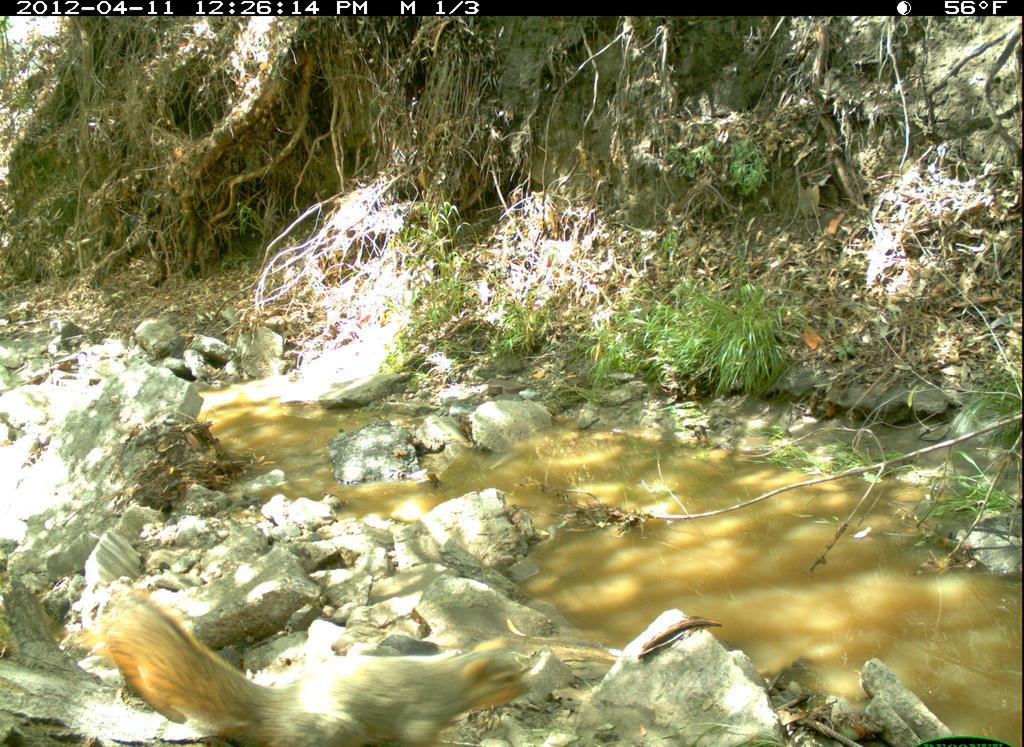squirrel: (80, 587, 538, 742)
